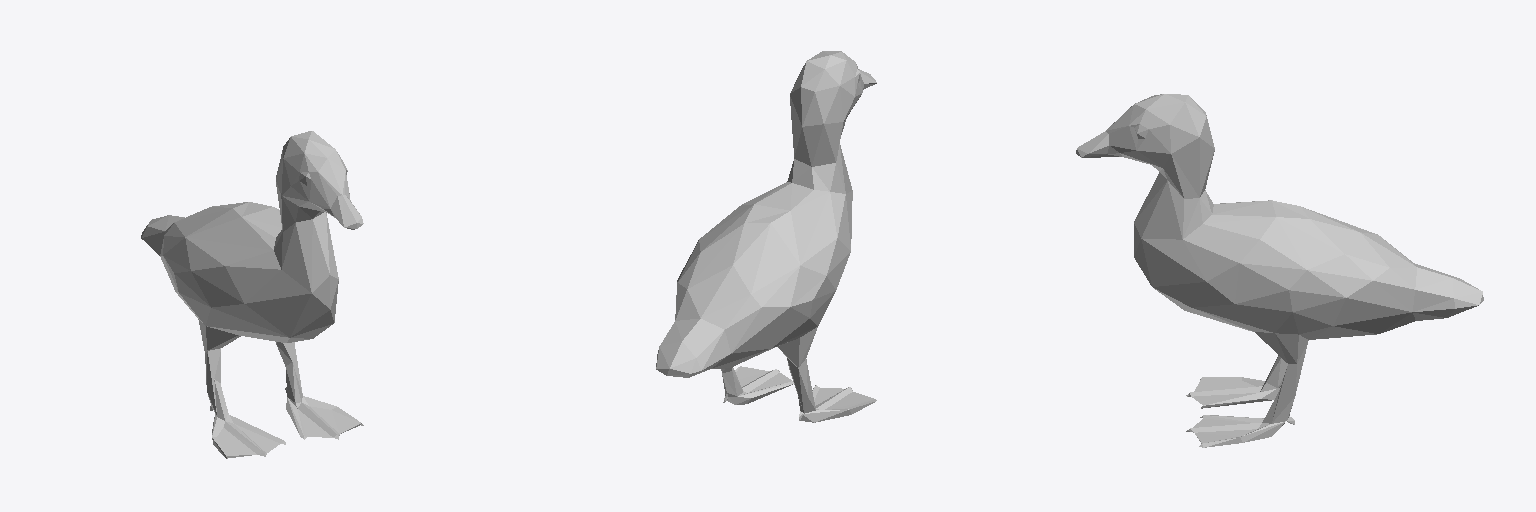
Rendered from duck.obj.
3 renders of one model, left to right at view 1: azimuth 30°, elevation 25°; view 2: azimuth 150°, elevation 25°; view 3: azimuth 270°, elevation 25°, orthographic.
Bounding box in the file's own units: 0.2798 × 0.6149 × 0.7099.